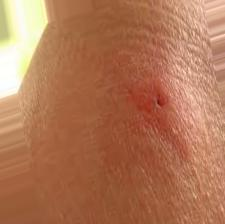Tick: (123, 71, 178, 143)
